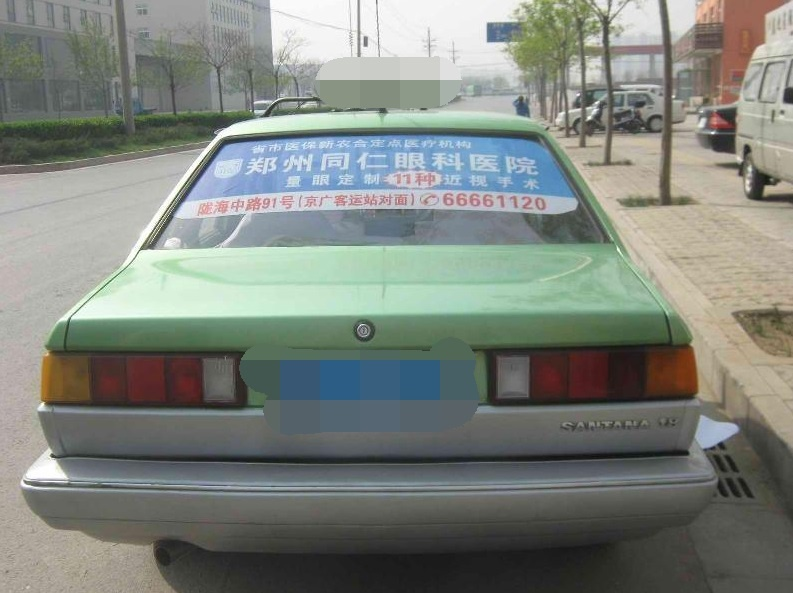taxi: (40, 89, 758, 576)
